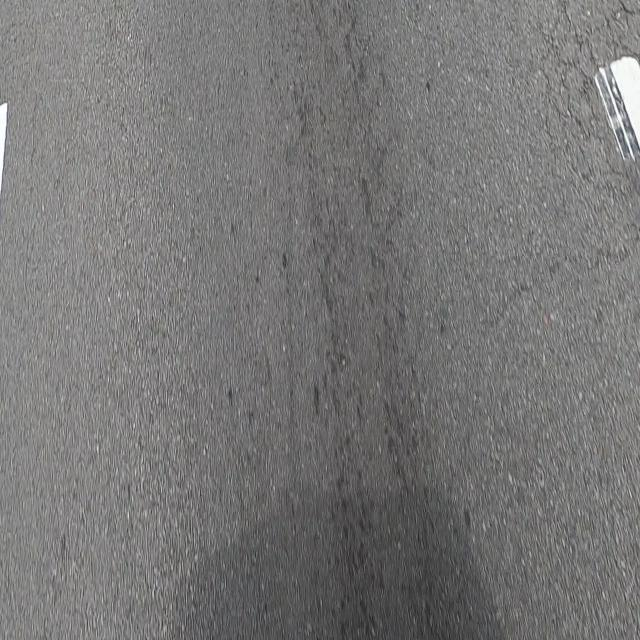Retak-Buaya: (539, 0, 640, 218)
